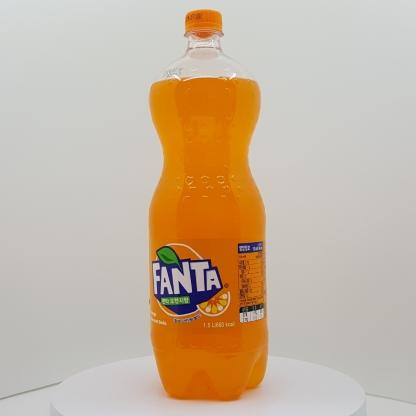-------1-5L: (148, 9, 269, 400)
